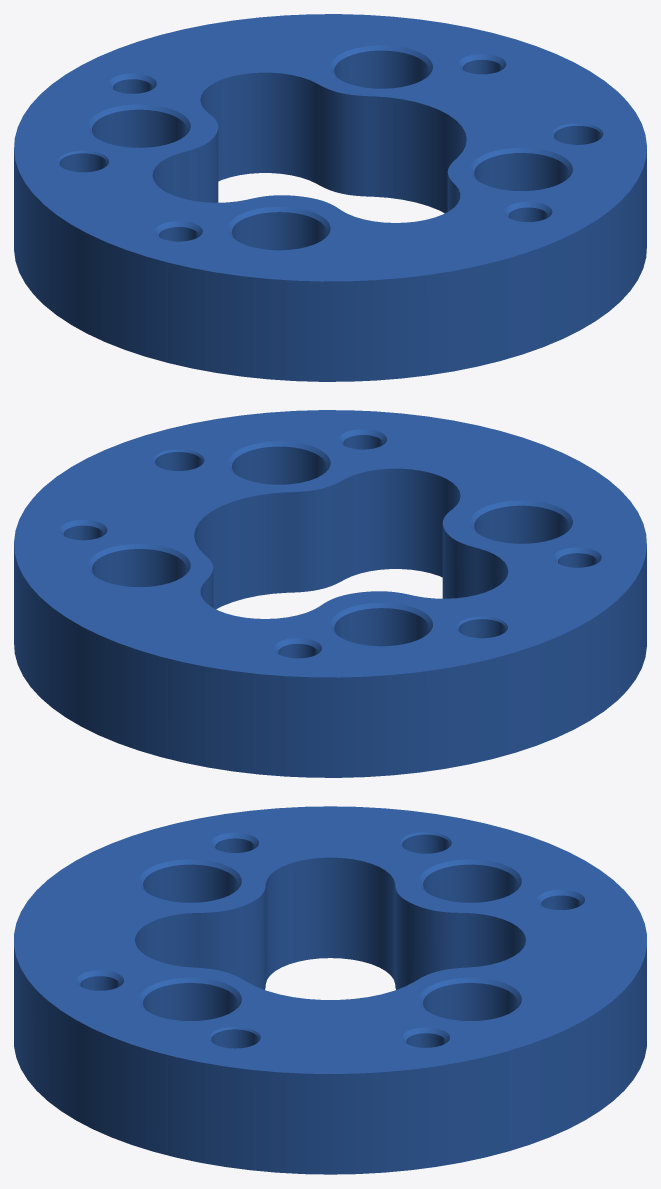
The model's file is 03_Converter.dae.
3 renders of one model, top to bottom at view 1: azimuth 30°, elevation 25°; view 2: azimuth 150°, elevation 25°; view 3: azimuth 270°, elevation 25°, orthographic.
Visible parts, largest first — view 1: Converter; view 2: Converter; view 3: Converter.
Boxes of the visible parts, <box> form: Converter: <box>14,14,646,381</box>; Converter: <box>14,410,646,777</box>; Converter: <box>14,806,646,1174</box>.
Size of the model in its own units: 80 by 79.93 by 14.
